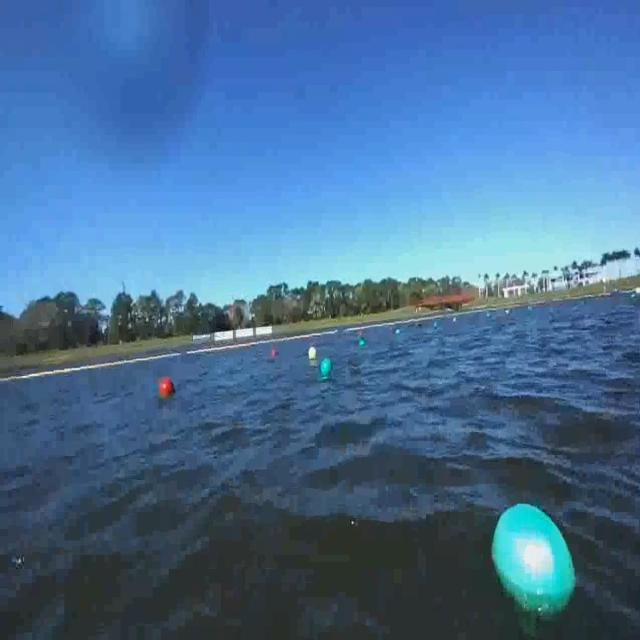green-buoy: (479, 491, 583, 632), (320, 358, 332, 375), (359, 339, 365, 349)
red-buoy: (158, 376, 174, 398)
yellow-buoy: (309, 346, 317, 359)
